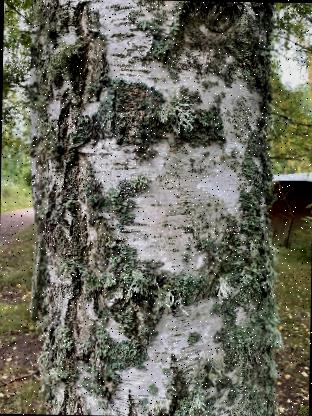tree: (18, 0, 295, 416)
